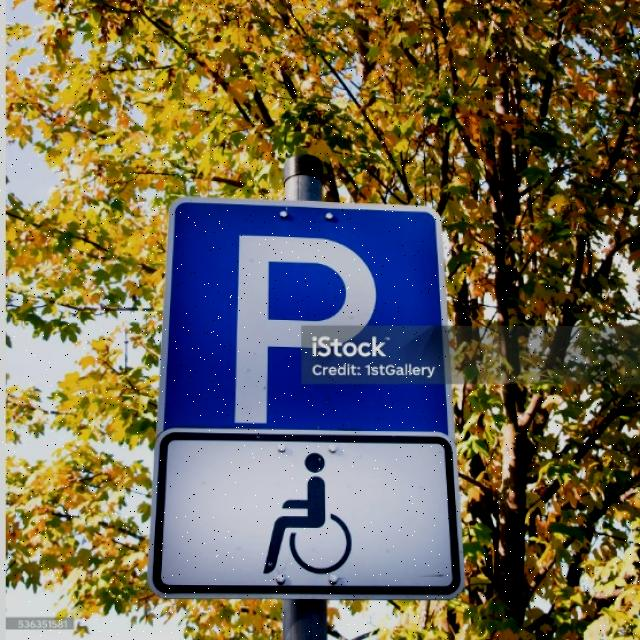symbol_of_access: (143, 424, 466, 602)
